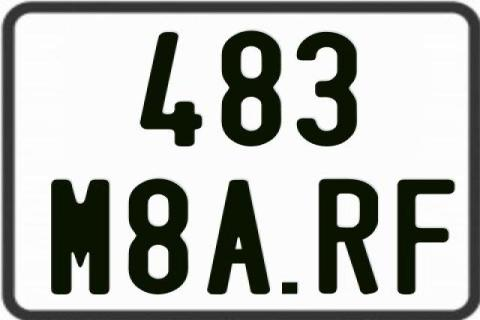0: (221, 29, 287, 149), (137, 31, 203, 148), (297, 31, 362, 146), (126, 179, 188, 297)
A: (205, 180, 273, 295)
F: (398, 177, 458, 297)
M: (50, 177, 110, 296)
R: (318, 177, 377, 297)
